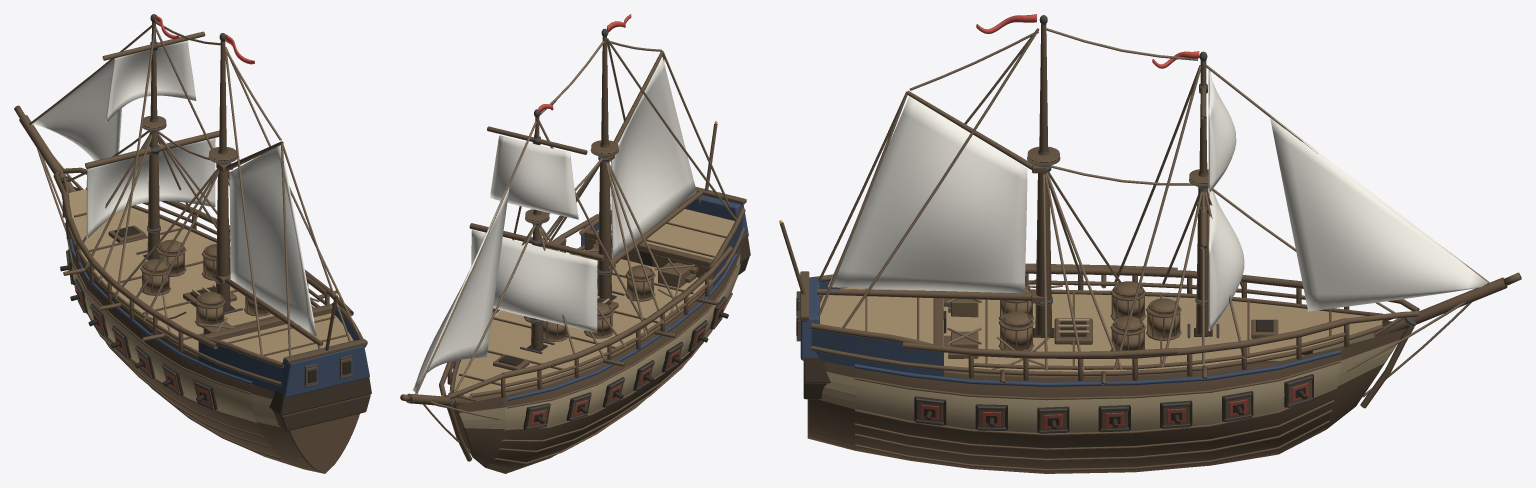
The model's file is brig_dutch.glb.
3 renders of one model, left to right at view 1: azimuth 30°, elevation 25°; view 2: azimuth 150°, elevation 25°; view 3: azimuth 270°, elevation 25°, orthographic. The views are drawn at different scales.
Parts seen in each view (by area): view 1: Deck, HullMesh, Sail_Main_Gaff, Sterncastle, Sail_Fore_Course, Rigging_Main, Railings, Sail_Bowsprit, Sail_Fore_Topsail, Rigging_Fore, Mast_Main, Gunports (+6 smaller); view 2: Deck, HullMesh, Sail_Main_Gaff, Sail_Fore_Course, Sail_Bowsprit, Sail_Fore_Topsail, Railings, Rigging_Main, Mast_Main, Gunports, Rigging_Fore, Sterncastle (+5 smaller); view 3: HullMesh, Deck, Sail_Main_Gaff, Sail_Bowsprit, Railings, Rigging_Main, Gunports, Rigging_Fore, Mast_Main, Sail_Fore_Course, Sterncastle, Yard_Main_Gaff (+4 smaller).
Part boxes in pixels (x1,y1,x2,y2): Deck: [63, 187, 357, 391]; HullMesh: [53, 167, 359, 473]; Sail_Main_Gaff: [229, 145, 316, 336]; Sterncastle: [269, 293, 371, 431]; Sail_Fore_Course: [86, 138, 215, 238]; Rigging_Main: [113, 22, 358, 356]; Railings: [61, 192, 366, 367]; Sail_Bowsprit: [32, 50, 125, 160]; Sail_Fore_Topsail: [105, 40, 196, 122]; Rigging_Fore: [29, 25, 230, 298]; Mast_Main: [208, 33, 236, 309]; Gunports: [66, 249, 217, 410]; Deck: [449, 208, 745, 397]; HullMesh: [439, 246, 740, 473]; Sail_Main_Gaff: [611, 56, 696, 258]; Sail_Fore_Course: [471, 230, 597, 332]; Sail_Bowsprit: [412, 183, 509, 392]; Sail_Fore_Topsail: [490, 135, 578, 219]; Railings: [447, 208, 745, 397]; Rigging_Main: [540, 38, 737, 335]; Mast_Main: [590, 28, 618, 299]; Gunports: [456, 296, 726, 430]; Rigging_Fore: [415, 120, 649, 394]; Sterncastle: [679, 120, 750, 275]; HullMesh: [807, 299, 1419, 473]; Deck: [811, 275, 1383, 385]; Sail_Main_Gaff: [828, 96, 1027, 293]; Sail_Bowsprit: [1270, 117, 1487, 311]; Railings: [810, 263, 1349, 381]; Rigging_Main: [818, 28, 1197, 370]; Gunports: [914, 351, 1313, 433]; Rigging_Fore: [1113, 65, 1490, 370]; Mast_Main: [1027, 15, 1060, 335]; Sail_Fore_Course: [1208, 190, 1244, 331]; Sterncastle: [779, 220, 830, 399]; Yard_Main_Gaff: [817, 90, 1051, 303].
Bounding box in the file's own units: 1.91 × 3.71 × 5.44.
